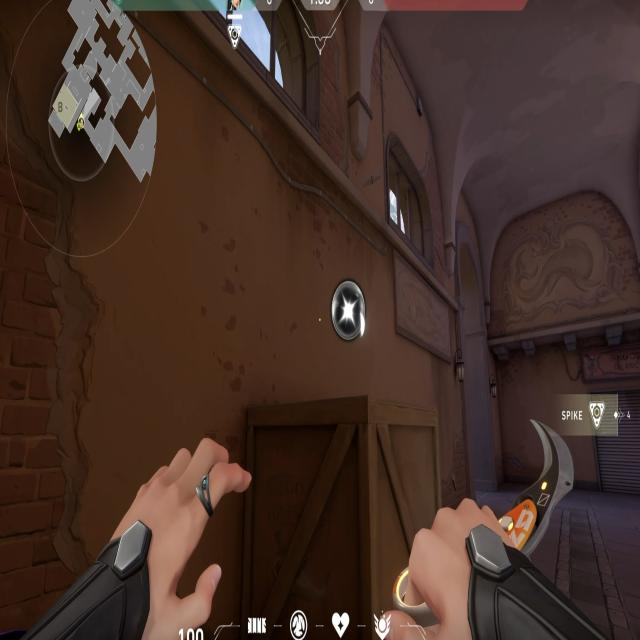B_Main_Wallbang: (100, 275, 375, 640)
Throwables: (195, 0, 325, 134), (383, 120, 439, 277)
